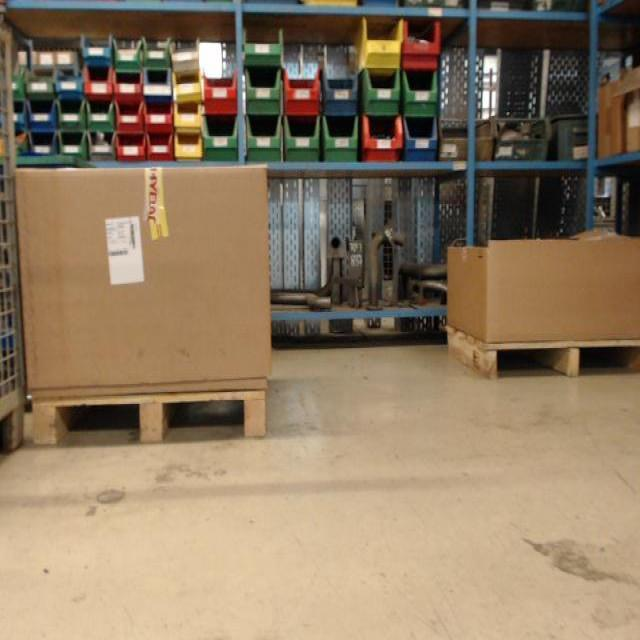pallet: (28, 386, 270, 447), (444, 322, 640, 381)
stillage: (0, 26, 22, 462)
